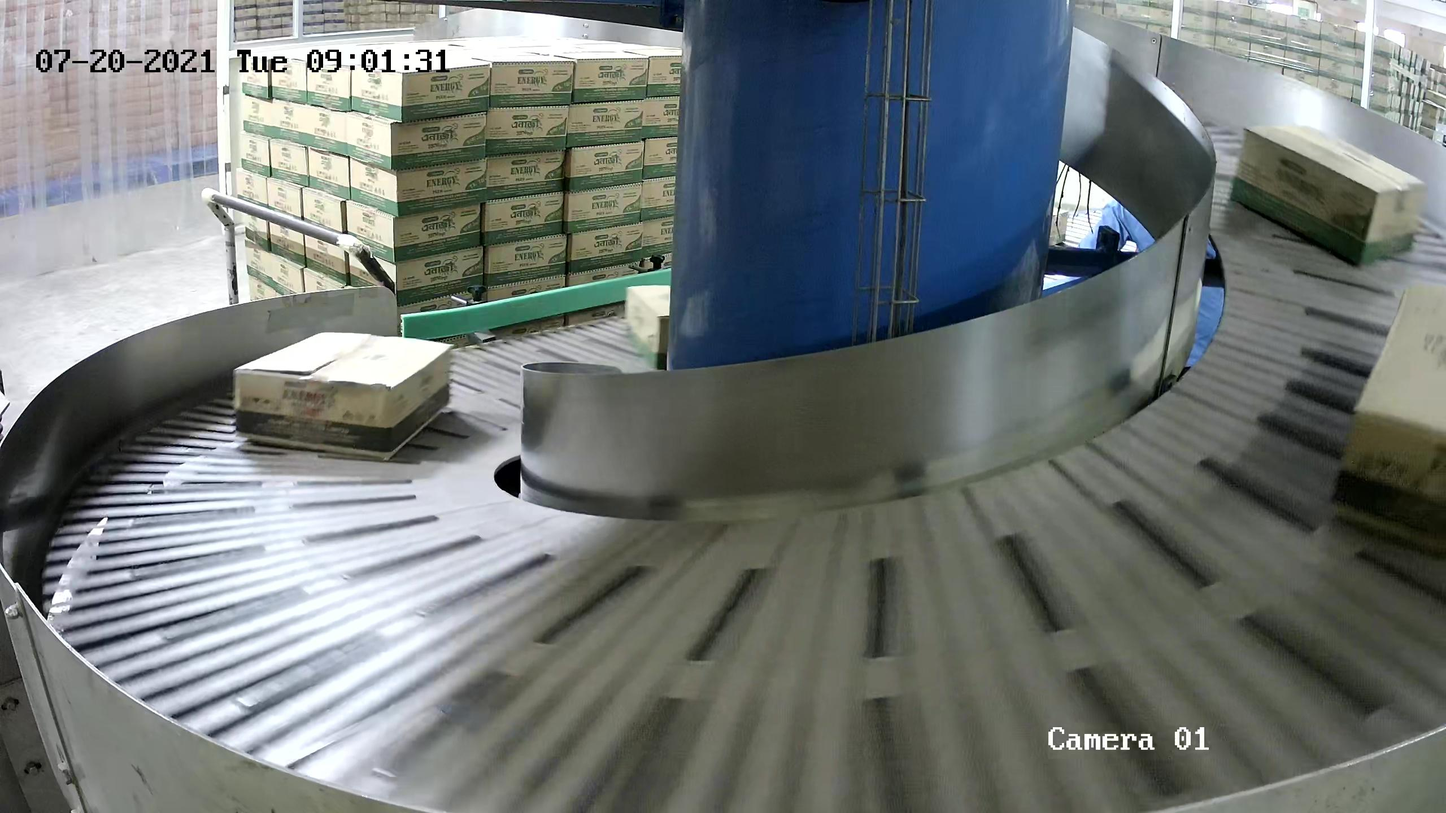Box: (1330, 279, 1446, 567), (231, 329, 456, 463), (1230, 121, 1427, 269), (624, 283, 672, 371)
